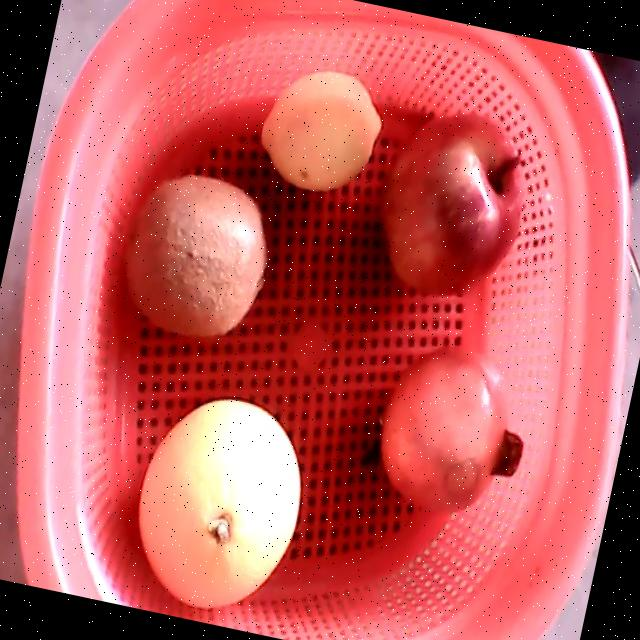apple: (381, 113, 527, 298)
kiwi: (121, 176, 268, 336)
lemon: (262, 72, 385, 193)
orange: (138, 399, 300, 609)
pomegranate: (379, 346, 524, 519)
